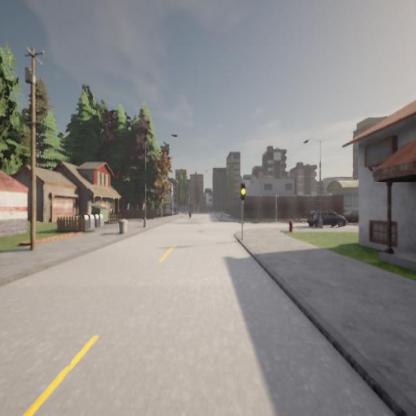traffic_light_orange: (240, 186, 246, 198)
vehicle: (305, 209, 346, 228)
